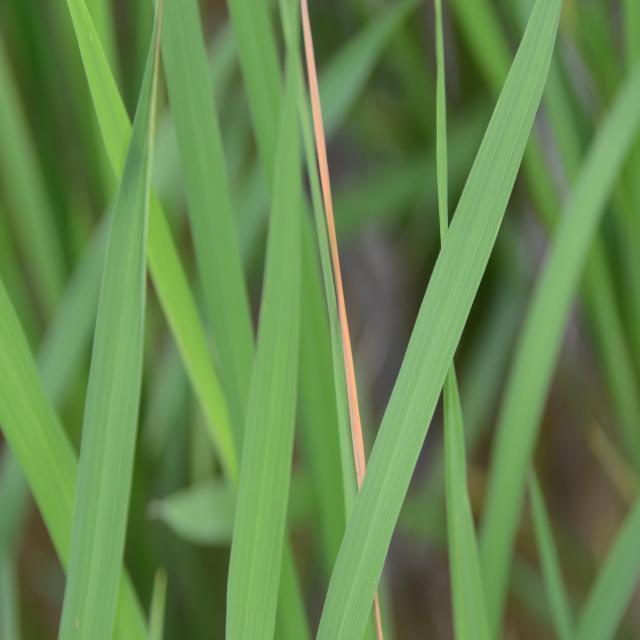Rice Tungro: (295, 5, 376, 503)
